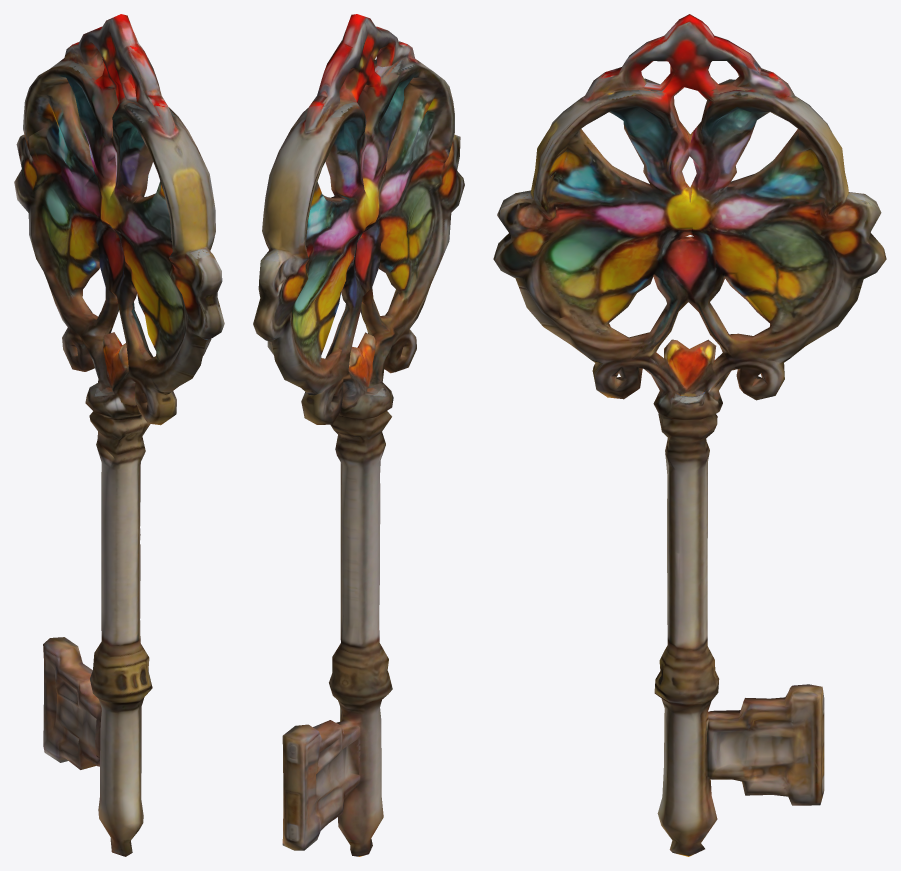
Rendered from testGlassKey.glb.
The picture shows the model from 3 angles, left to right: view 1: azimuth 30°, elevation 25°; view 2: azimuth 150°, elevation 25°; view 3: azimuth 270°, elevation 25°; orthographic projection.
Visible parts, largest first — view 1: Mesh_0; view 2: Mesh_0; view 3: Mesh_0.
Part boxes in pixels (<box>): Mesh_0: <box>14,14,224,856</box>; Mesh_0: <box>253,14,464,856</box>; Mesh_0: <box>493,14,886,856</box>.
Bounding box in the file's own units: 0.0751 × 1 × 0.4236.
Materials: 1 (1 with a texture image).
